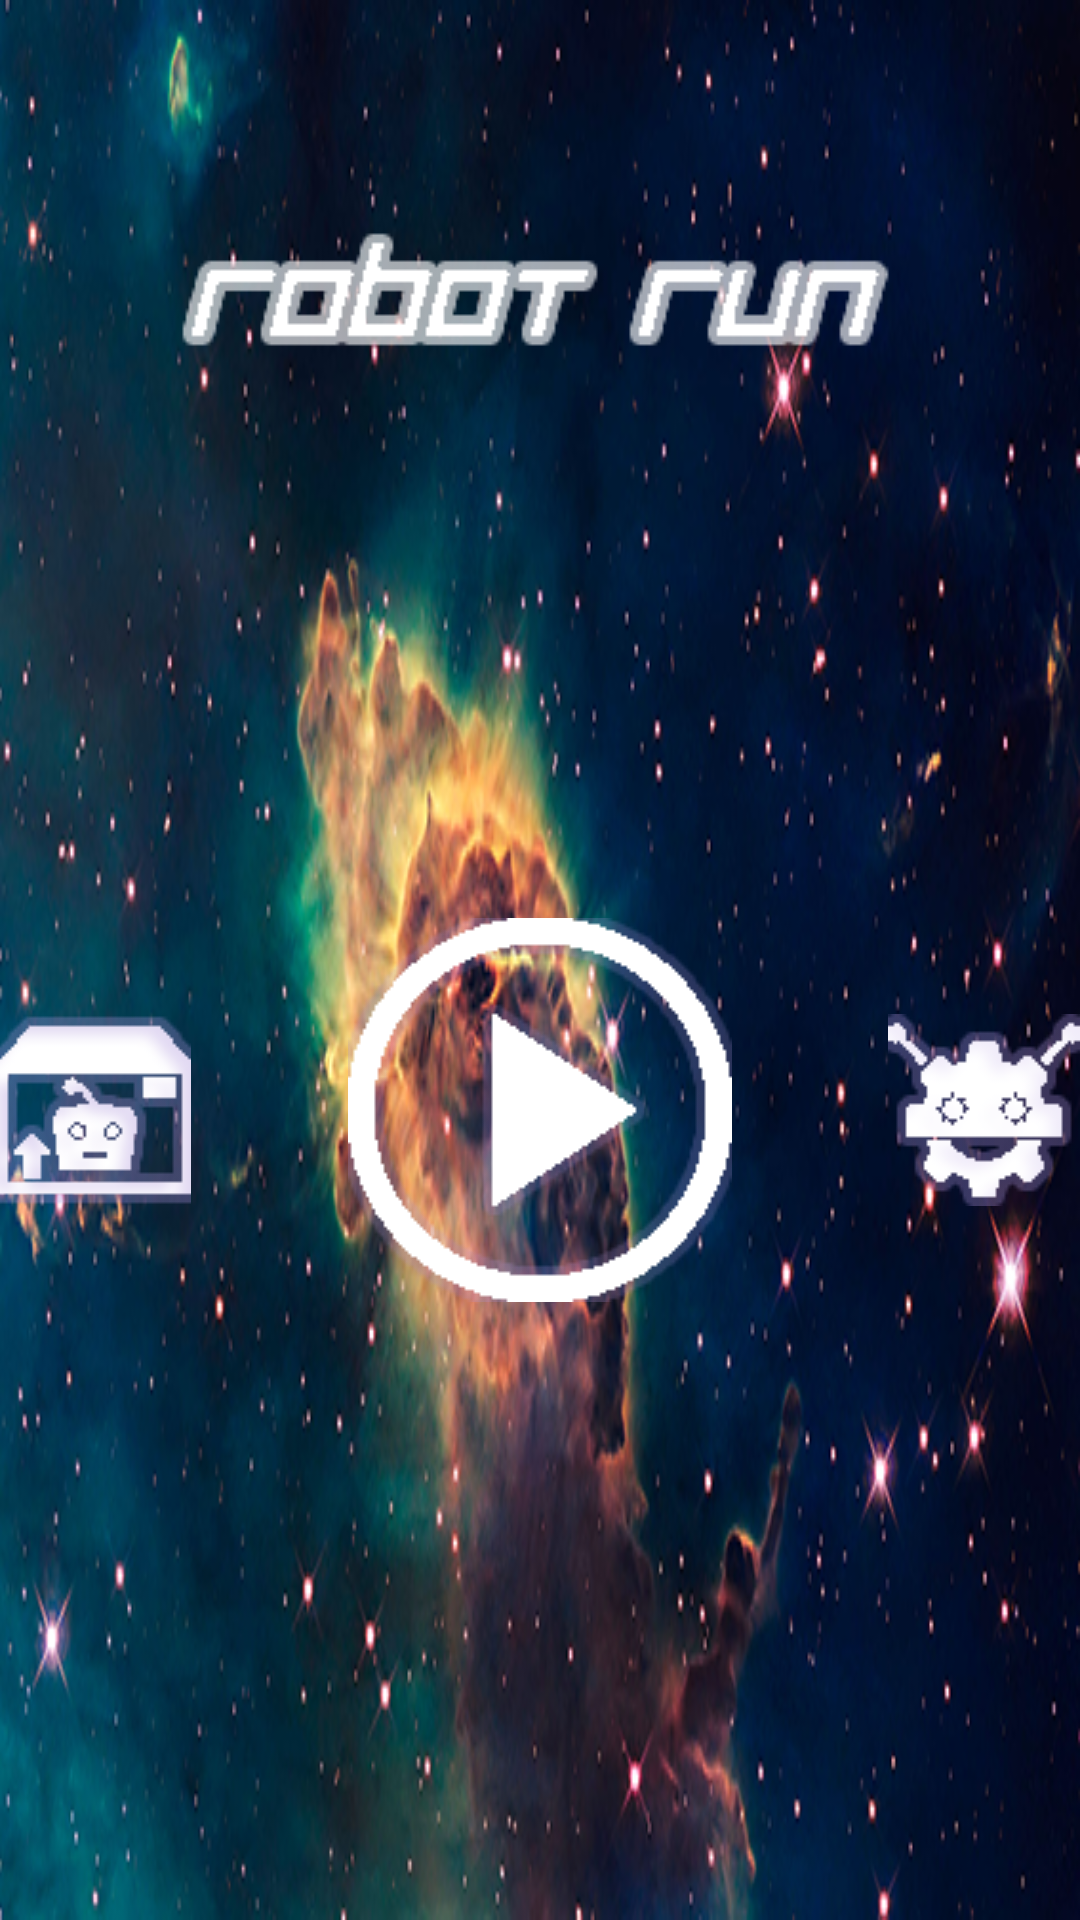

Point at icon controls on the screen. Image size 1080px x 1920px, points as (x=x, y=y).
ajustesmenu: (x=983, y=1109)
tiendamenu: (x=95, y=1110)
